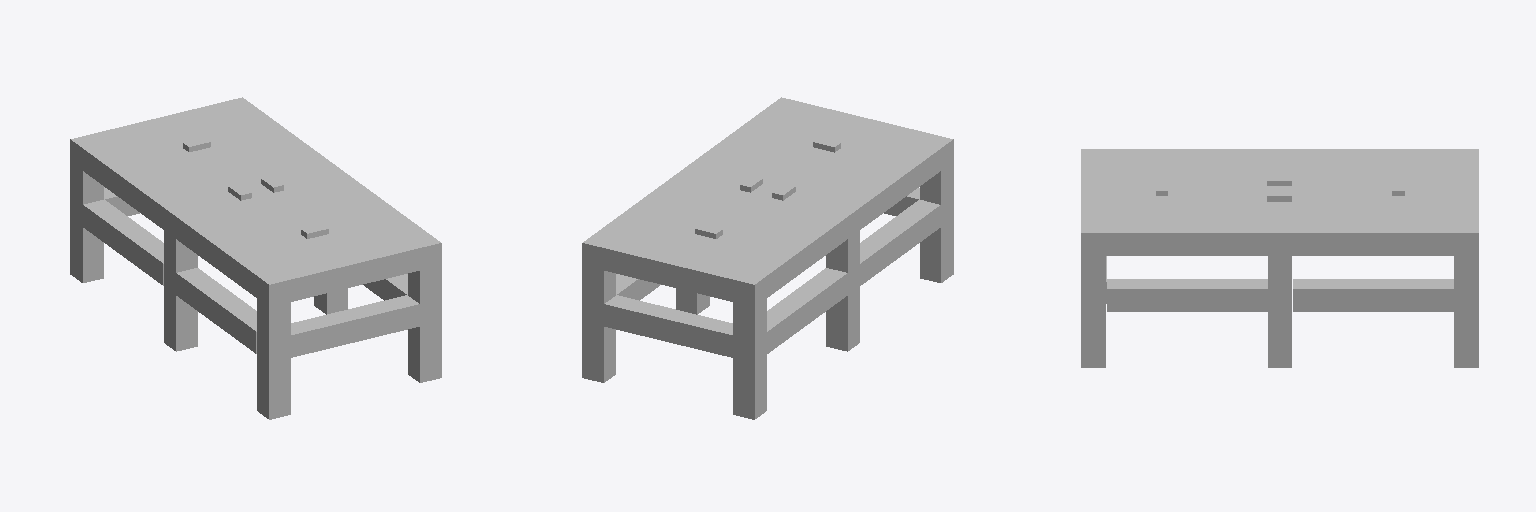
Rendered from ward_merging_table.obj.
3 renders of one model, left to right at view 1: azimuth 30°, elevation 25°; view 2: azimuth 150°, elevation 25°; view 3: azimuth 270°, elevation 25°, orthographic.
Visible parts, largest first — view 1: Cube; view 2: Cube; view 3: Cube.
Part boxes in pixels (x1,y1,x2,y2): Cube: (70,97,441,419); Cube: (582,97,953,419); Cube: (1081,149,1478,367).
Bounding box in the file's own units: 1 × 0.7795 × 2.